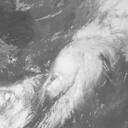cyclone: (42, 43, 106, 100)
